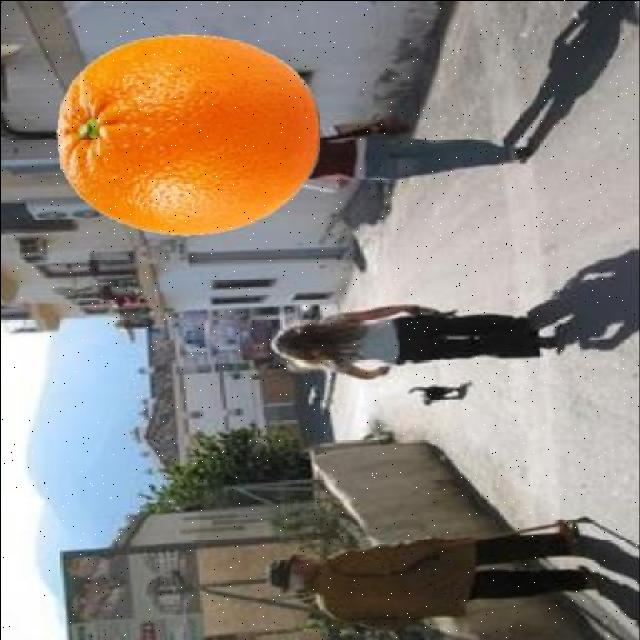Orange: (55, 32, 323, 238)
